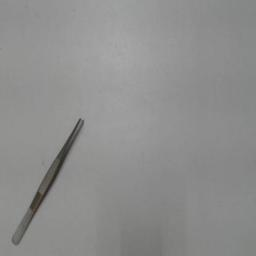Gillies Toothed Dissector: (8, 114, 92, 250)
